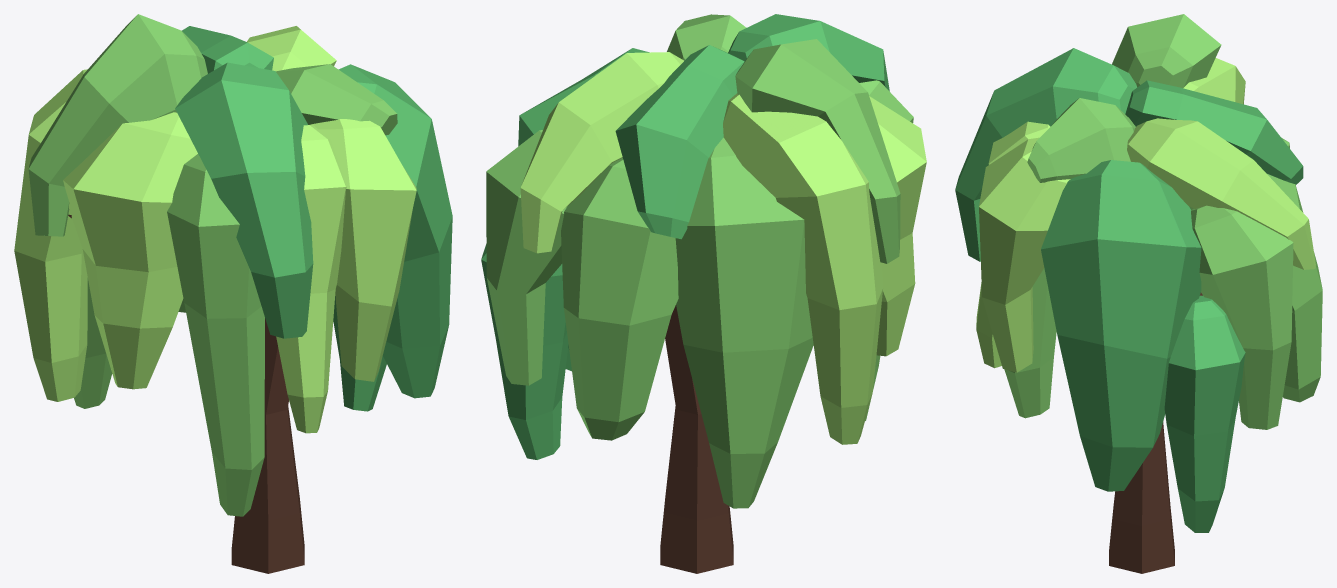
The model's file is Tree_Type2_3.fbx.
3 views of the same model, side by side, from view 1: azimuth 30°, elevation 25°; view 2: azimuth 150°, elevation 25°; view 3: azimuth 270°, elevation 25° (orthographic). The views are drawn at different scales.
Parts seen in each view (by area): view 1: Tree_Type2_3; view 2: Tree_Type2_3; view 3: Tree_Type2_3.
Part boxes in pixels (bbox=[...]): Tree_Type2_3: bbox=[14, 14, 452, 573]; Tree_Type2_3: bbox=[481, 14, 926, 573]; Tree_Type2_3: bbox=[955, 14, 1322, 573].
Bounding box in the file's own units: 305 × 406 × 272.
